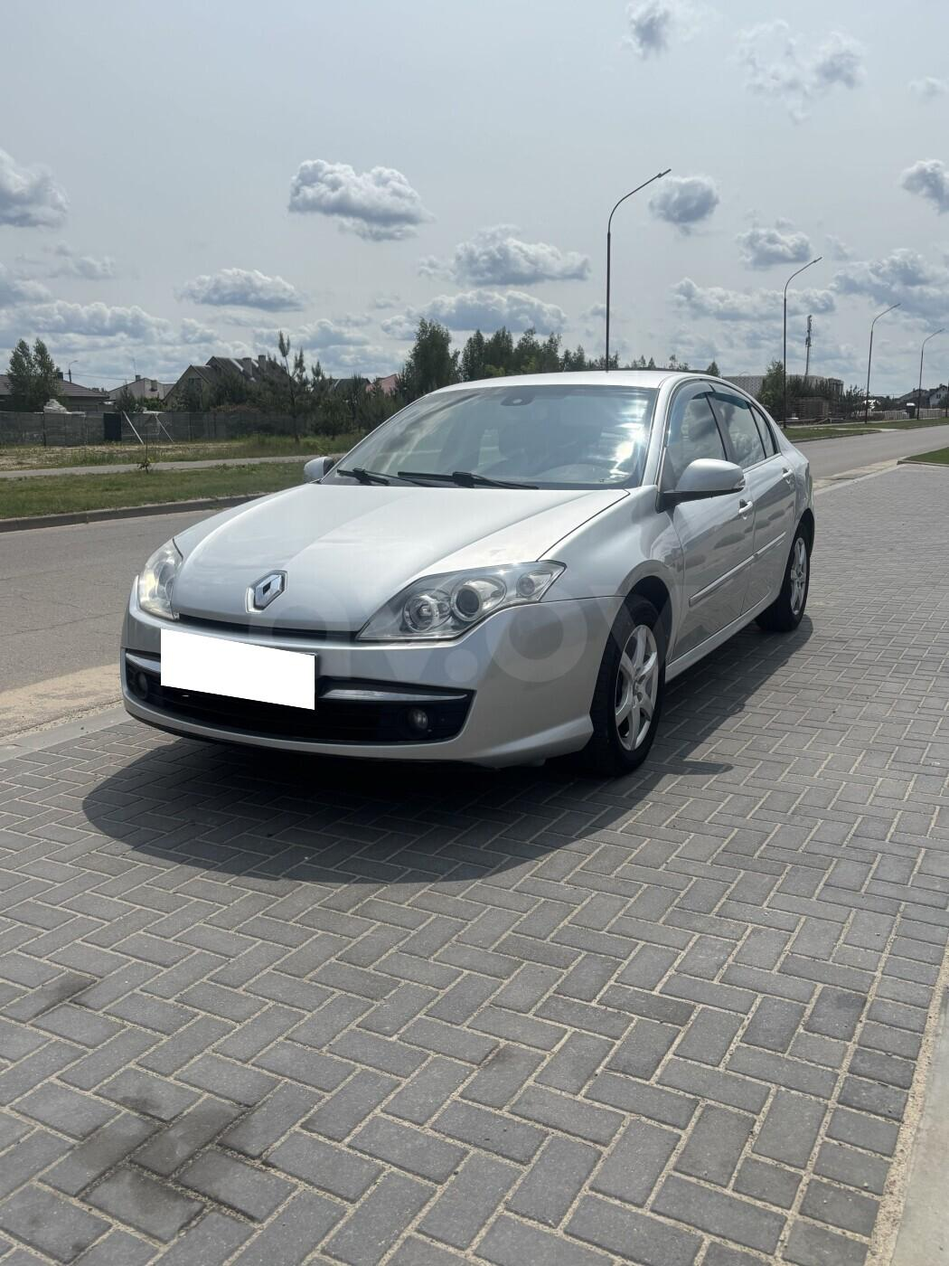Laguna_2007-2011: (120, 371, 814, 773)
